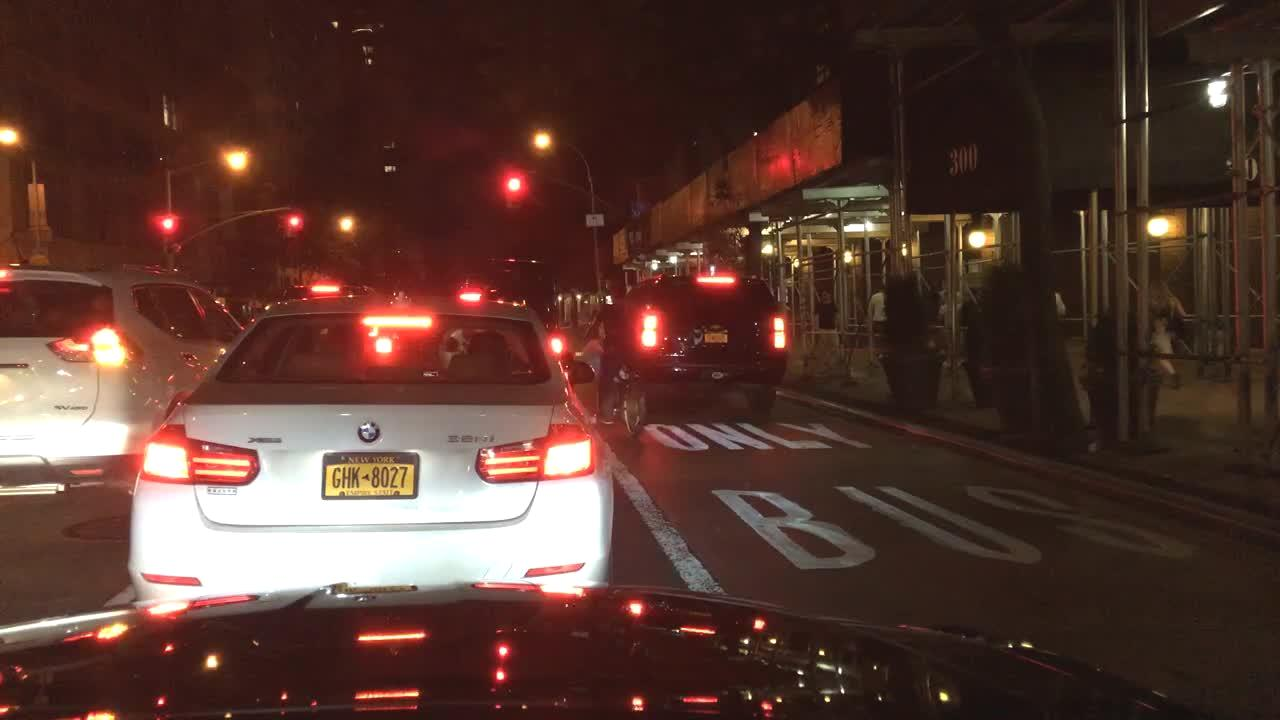bmw: (341, 413, 394, 453)
